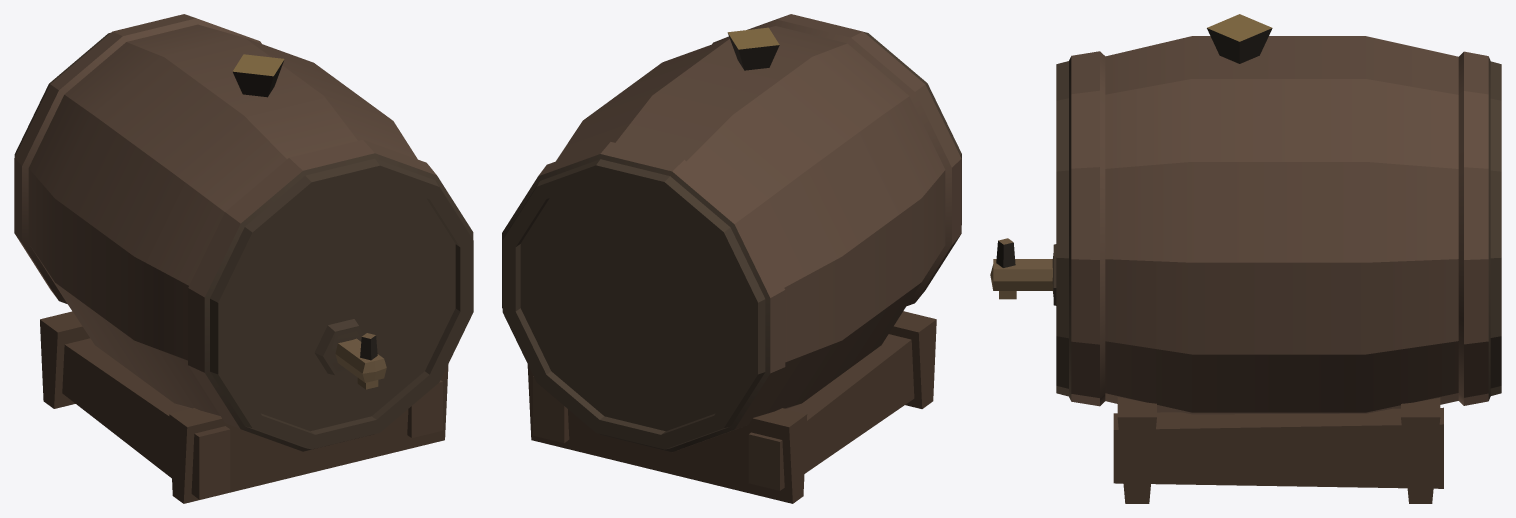
Rendered from Barrel_2.fbx.
The picture shows the model from 3 angles, left to right: view 1: azimuth 30°, elevation 25°; view 2: azimuth 150°, elevation 25°; view 3: azimuth 270°, elevation 25°; orthographic projection. The views are drawn at different scales.
Parts seen in each view (by area): view 1: pCube2429; view 2: pCube2429; view 3: pCube2429.
Boxes of the visible parts, x1=… form: pCube2429: x1=14, y1=14, x2=473, y2=503; pCube2429: x1=502, y1=14, x2=961, y2=503; pCube2429: x1=990, y1=14, x2=1501, y2=503.
Bounding box in the file's own units: 66.71 × 78.74 × 90.25.
